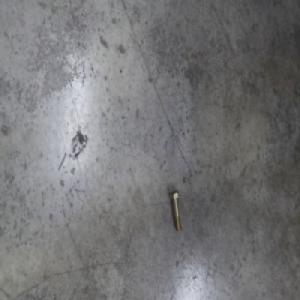Bolt: (167, 188, 181, 232)
